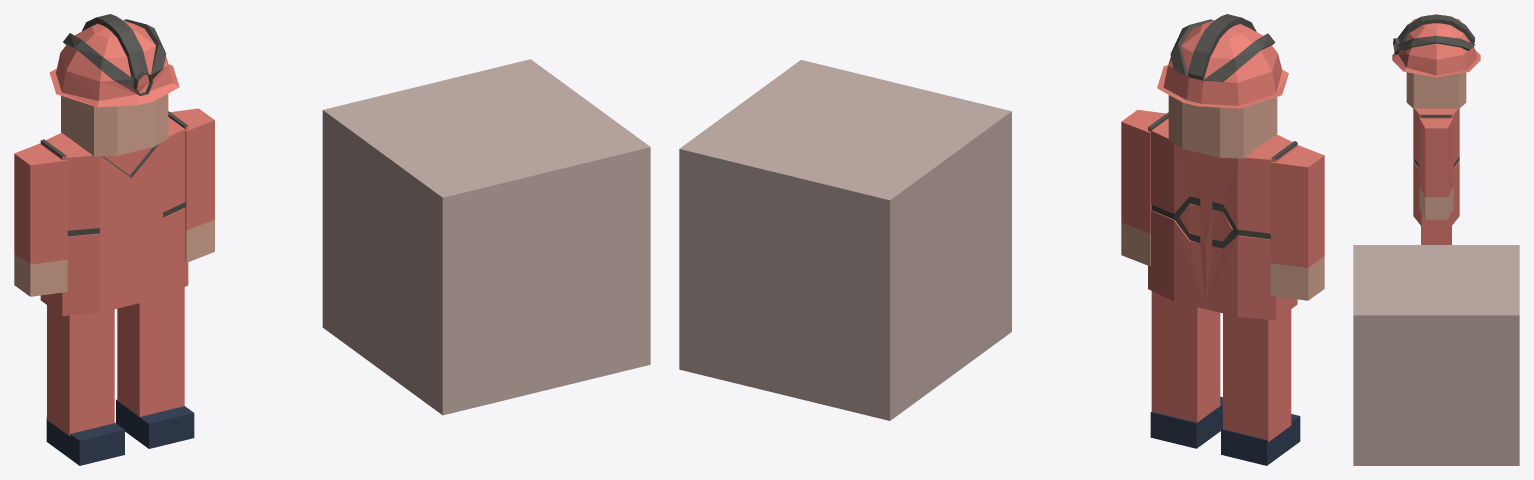
The model's file is white guy red 5.fbx.
3 renders of one model, left to right at view 1: azimuth 30°, elevation 25°; view 2: azimuth 150°, elevation 25°; view 3: azimuth 270°, elevation 25°, orthographic. The views are drawn at different scales.
Parts seen in each view (by area): view 1: pCube28, polySurface166; view 2: pCube28, polySurface166; view 3: pCube28, polySurface166.
Part boxes in pixels (x1,y1,x2,y2): pCube28: (322, 59, 650, 415); polySurface166: (14, 14, 214, 465); pCube28: (679, 60, 1011, 420); polySurface166: (1121, 14, 1324, 465); pCube28: (1353, 245, 1519, 465); polySurface166: (1392, 14, 1480, 244).
Size of the model in its own units: 273 by 191 by 100.
